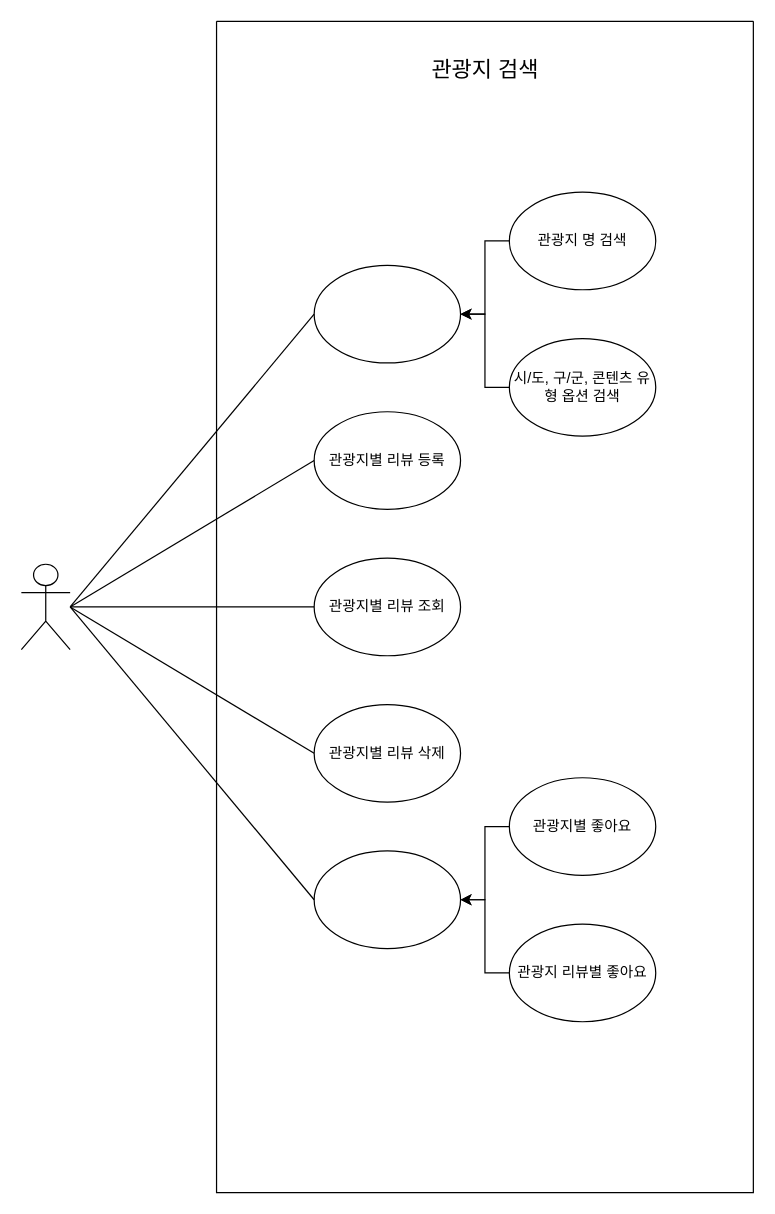
Some shapes in this 775 by 1214 pixel diagram are drawn without their labels. The centre of each missing label's shape, as x and y in pixels:
"검색" belongs at pixel 387 313.
"사용자" belongs at pixel 45 606.
"좋아요" belongs at pixel 387 899.
